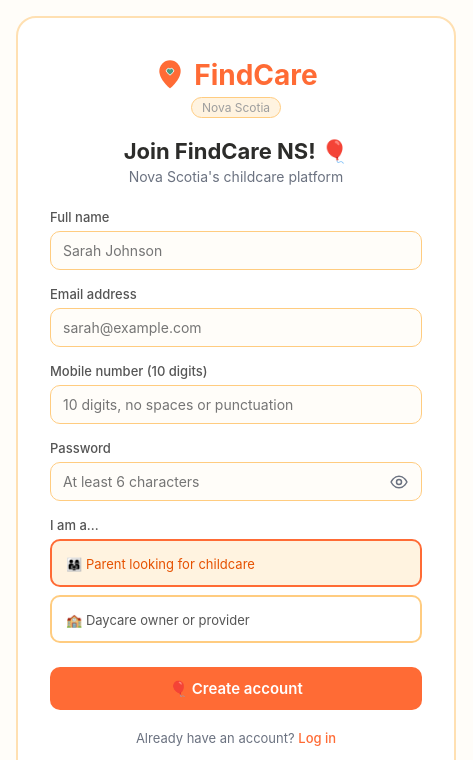
Test: requires a 10-digit phone from parents, but not daycare owners
The width and height of the screenshot is (473, 760).
Click the element showing "🏫 Daycare owner or provider" at point(236, 619), box top-left (50, 595), bottom-right (422, 643)
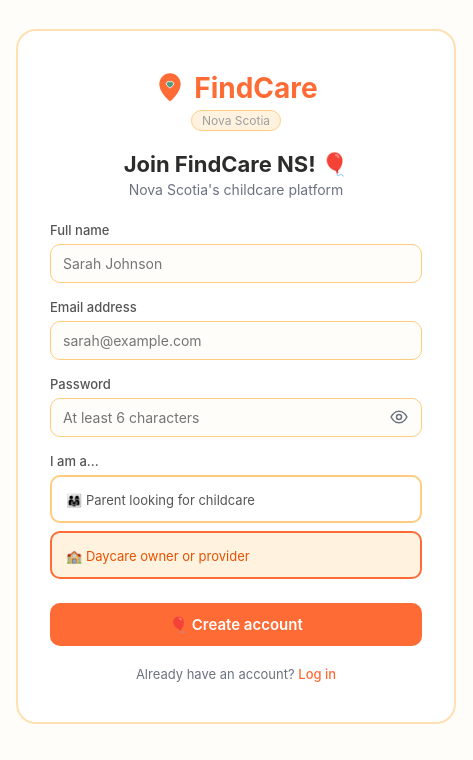
Now the label labelled "Mobile number (10 digits)" is gone
